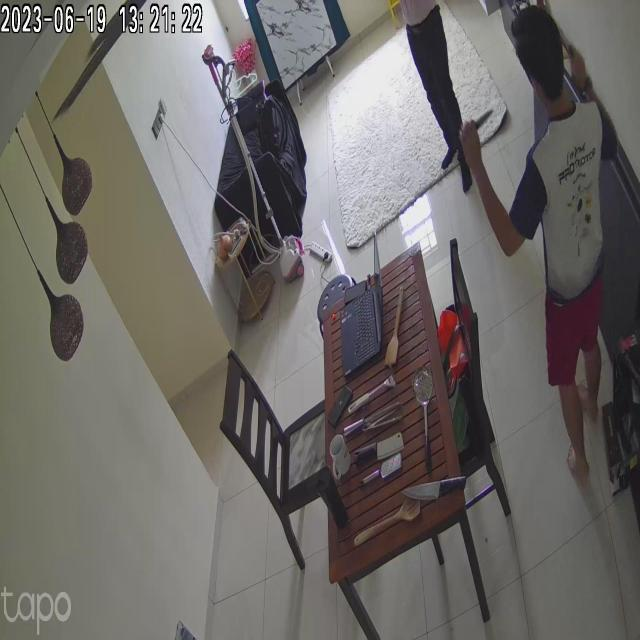Knife: (443, 100, 505, 152), (404, 473, 476, 505)
